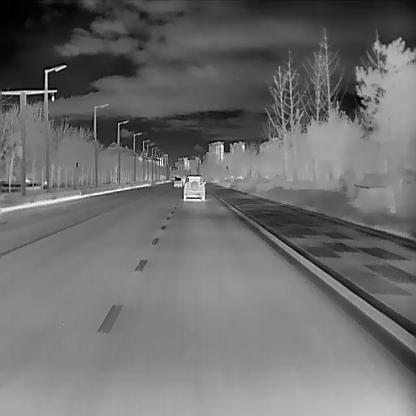car: (182, 175, 204, 200), (173, 177, 182, 187)
